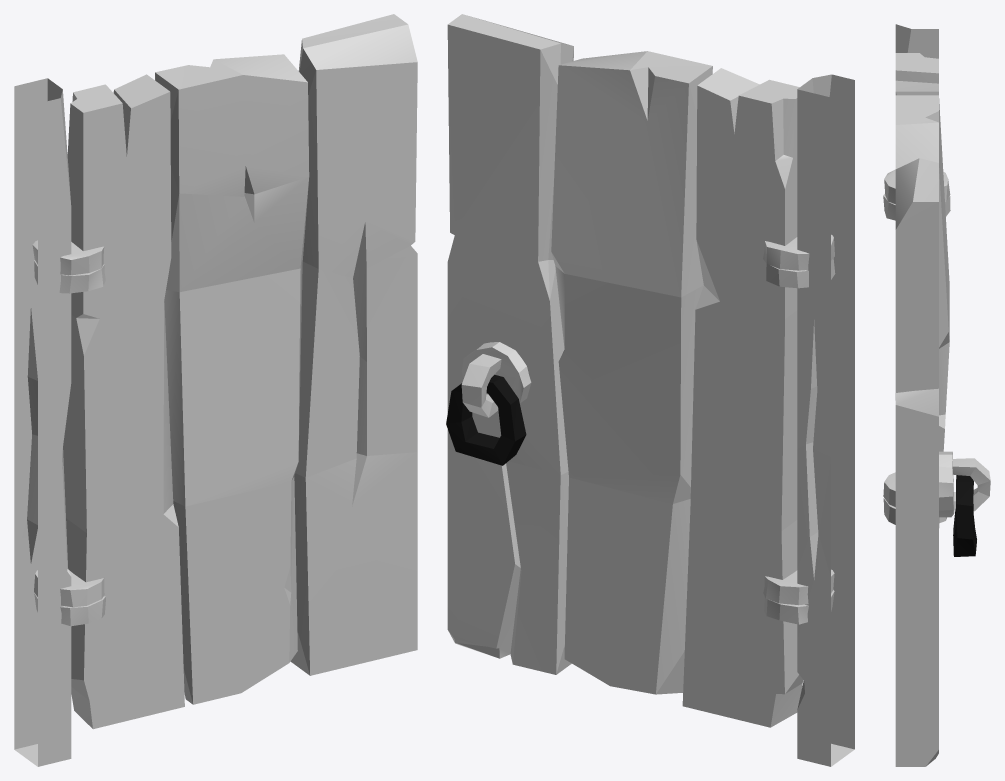
Rendered from NGF_Env_Door_attachment_04.fbx.
3 renders of one model, left to right at view 1: azimuth 30°, elevation 25°; view 2: azimuth 150°, elevation 25°; view 3: azimuth 270°, elevation 25°, orthographic. The views are drawn at different scales.
Visible parts, largest first — view 1: NGF_Env_Door_10, NGF_Env_Door_attachment_04, NGF_Env_Hinges_22, NGF_Env_Hinges_16; view 2: NGF_Env_Door_10, NGF_Env_Door_attachment_04, NGF_Env_Handle_10, NGF_Env_Handle_attachment_10, NGF_Env_Hinges_22, NGF_Env_Hinges_16; view 3: NGF_Env_Door_10, NGF_Env_Handle_attachment_10, NGF_Env_Handle_10, NGF_Env_Door_attachment_04, NGF_Env_Hinges_22, NGF_Env_Hinges_16.
Boxes of the visible parts, <box> form: NGF_Env_Door_10: <box>63,14,417,729</box>; NGF_Env_Door_attachment_04: <box>14,78,71,766</box>; NGF_Env_Hinges_22: <box>32,240,104,607</box>; NGF_Env_Hinges_16: <box>34,260,105,626</box>; NGF_Env_Door_10: <box>447,14,803,727</box>; NGF_Env_Door_attachment_04: <box>797,74,854,766</box>; NGF_Env_Handle_10: <box>446,374,526,465</box>; NGF_Env_Handle_attachment_10: <box>461,342,531,417</box>; NGF_Env_Hinges_22: <box>763,234,834,605</box>; NGF_Env_Hinges_16: <box>764,258,835,624</box>; NGF_Env_Door_10: <box>895,53,949,766</box>; NGF_Env_Handle_attachment_10: <box>939,451,990,517</box>; NGF_Env_Handle_10: <box>953,475,976,556</box>; NGF_Env_Door_attachment_04: <box>895,24,938,58</box>; NGF_Env_Hinges_22: <box>883,169,950,506</box>; NGF_Env_Hinges_16: <box>883,194,950,524</box>.
Size of the model in its own units: 1.58 by 2.64 by 0.4249.
1 material, 1 textured.
